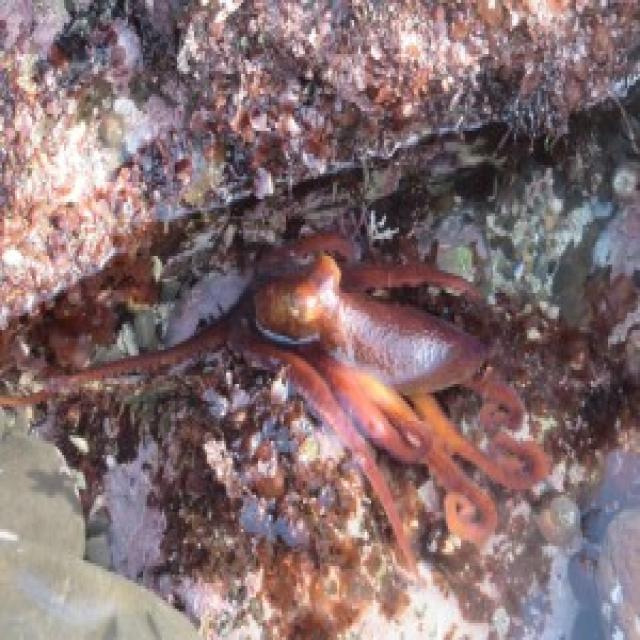Octo: (90, 225, 562, 547)
